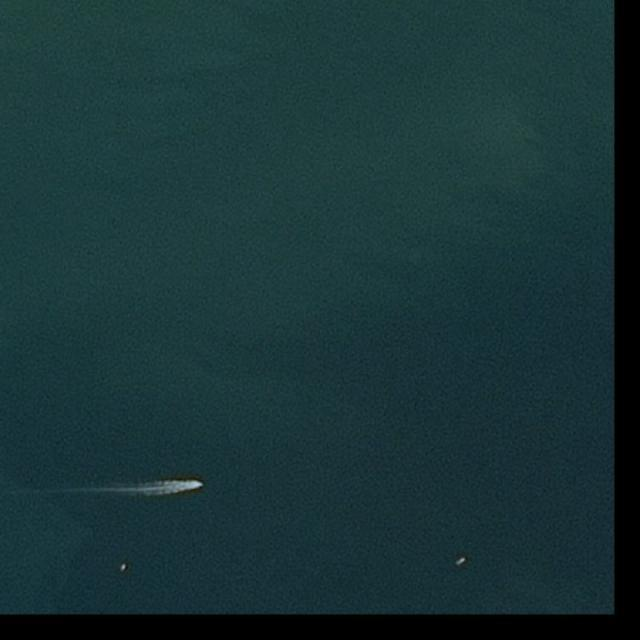ship: (454, 555, 468, 566), (188, 479, 202, 488), (121, 564, 126, 573)
